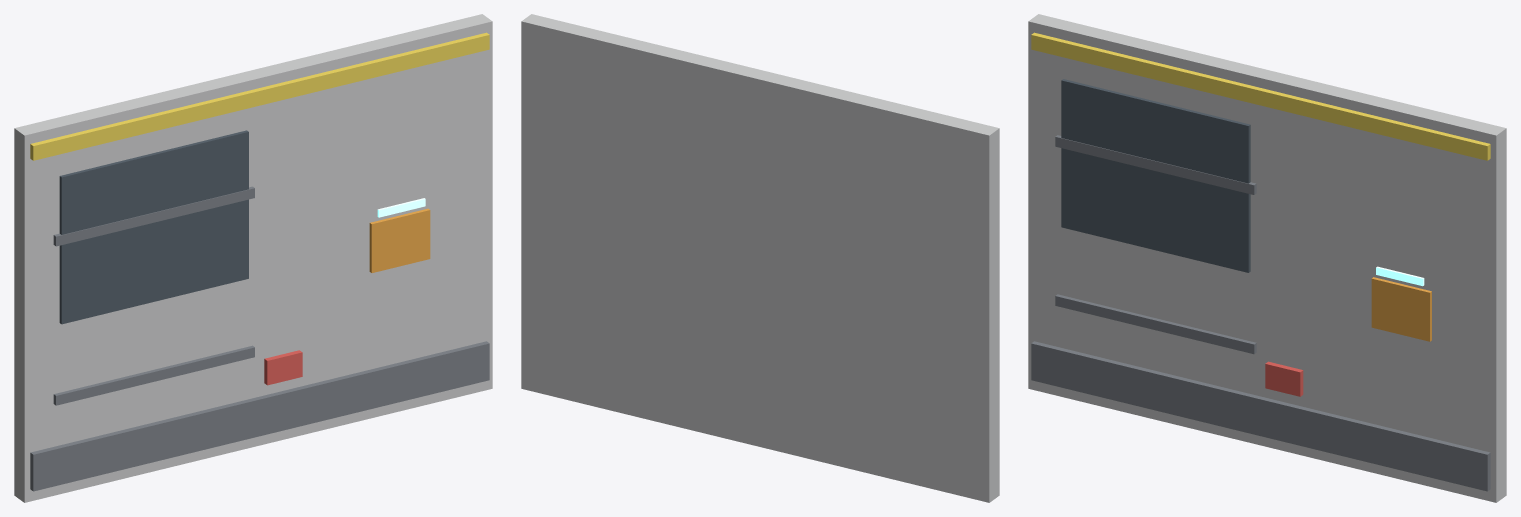
Rendered from workshop-wall-panel.glb.
3 views of the same model, side by side, from view 1: azimuth 30°, elevation 25°; view 2: azimuth 150°, elevation 25°; view 3: azimuth 330°, elevation 25° (orthographic).
Parts seen in each view (by area): view 1: workshop-wall-panel; view 2: workshop-wall-panel; view 3: workshop-wall-panel.
Boxes of the visible parts, box(x1,y1,x2,y2) form: workshop-wall-panel: box(14, 14, 492, 502); workshop-wall-panel: box(521, 14, 999, 502); workshop-wall-panel: box(1028, 14, 1506, 502).
Size of the model in its own units: 4 by 3 by 0.2.
